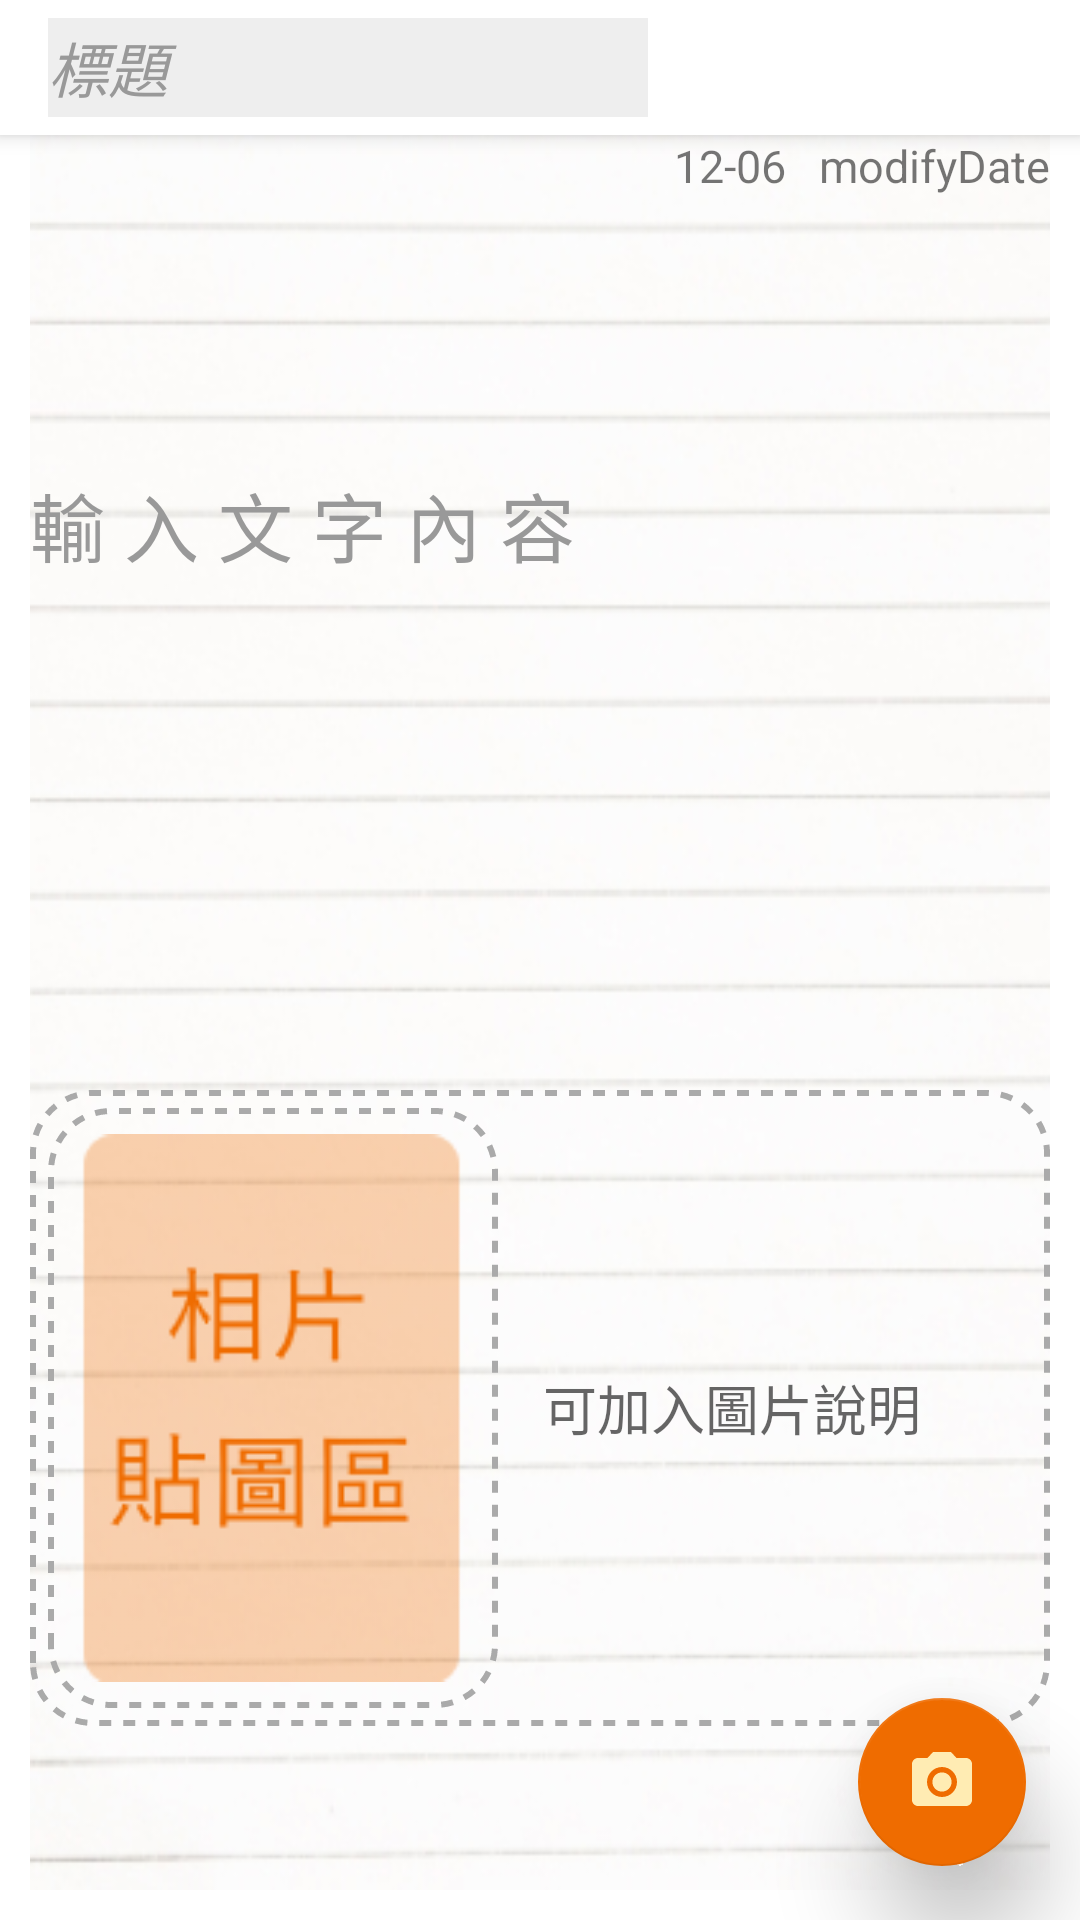

Point at icon controls on the screen. Image size 1080px×1920px, points as [x,y].
camera 24p: [942,1782]
